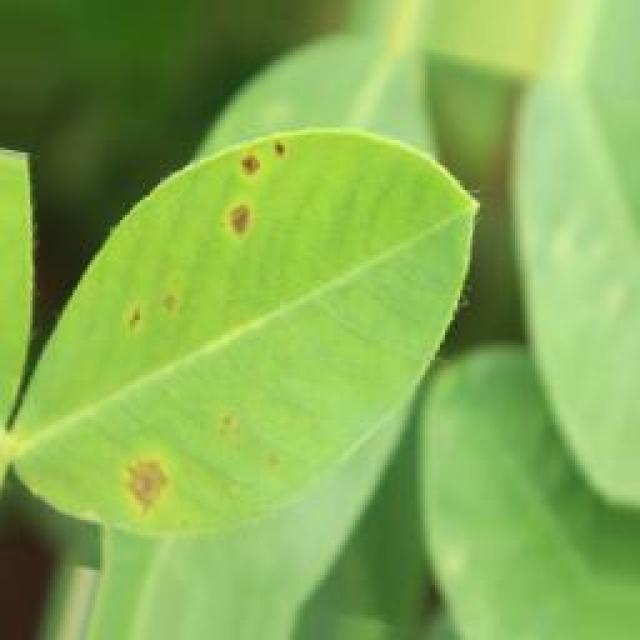Sigatoka: (192, 130, 312, 246), (184, 380, 296, 501), (97, 271, 203, 340), (114, 438, 188, 525)
